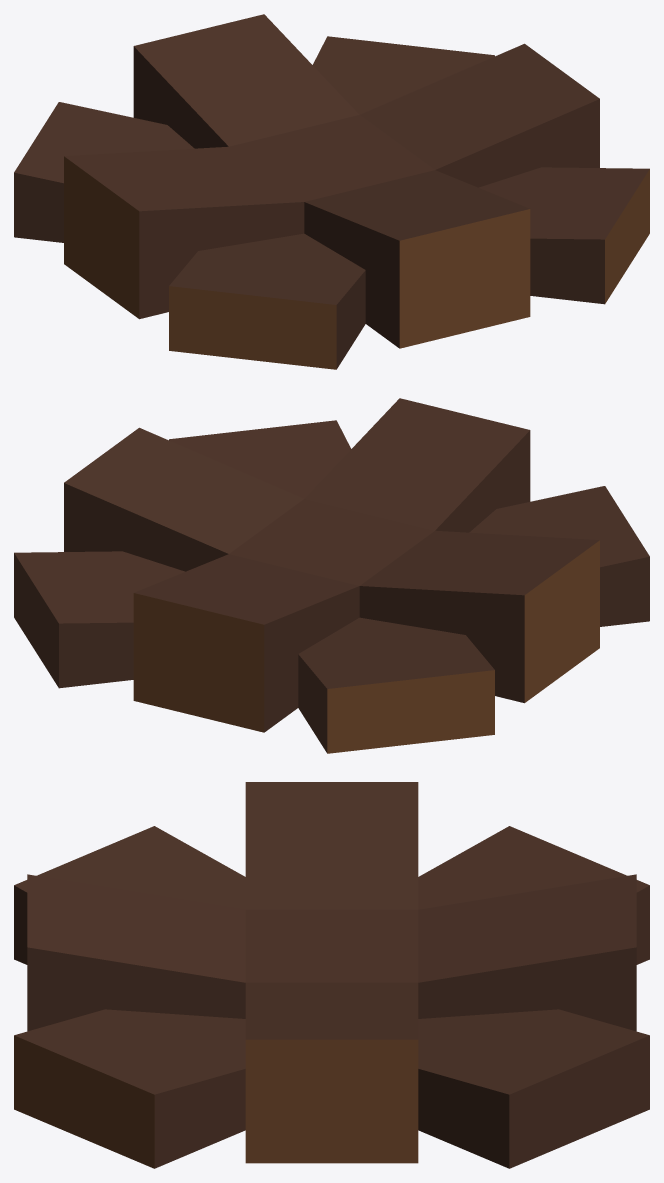
File: campfire_logs.glb
The picture shows the model from 3 angles, top to bottom: view 1: azimuth 30°, elevation 25°; view 2: azimuth 150°, elevation 25°; view 3: azimuth 270°, elevation 25°; orthographic projection. The views are drawn at different scales.
Parts seen in each view (by area): view 1: campfire_logs; view 2: campfire_logs; view 3: campfire_logs.
Part boxes in pixels (left/top/right/bottom): campfire_logs: left=14, top=14, right=649, bottom=369; campfire_logs: left=14, top=398, right=649, bottom=753; campfire_logs: left=14, top=782, right=649, bottom=1168.
Bounding box in the file's own units: 0.2919 × 0.0626 × 0.2919.
